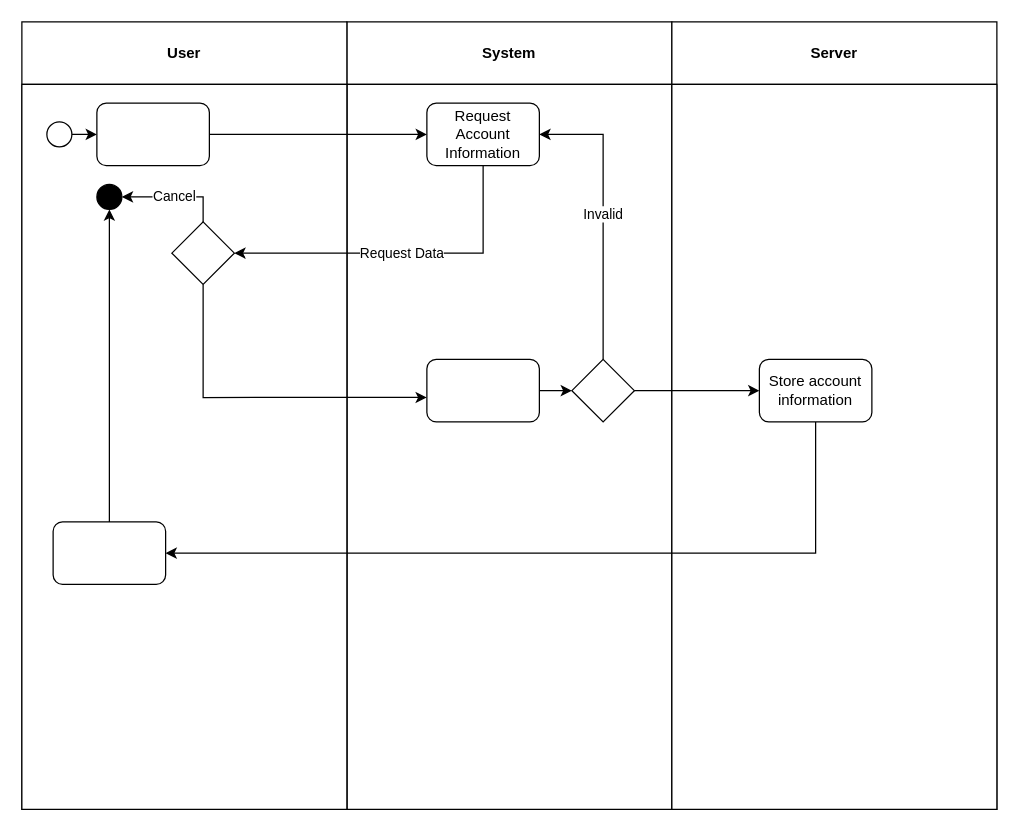
Image size: 1019x831. Some labels were removed from this diagram. The centre of each missing label's shape, as x and y in pixels:
"Register" belongs at (x=152, y=134).
"Registration Success" belongs at (x=109, y=552).
"Validate Account" belongs at (x=482, y=390).
